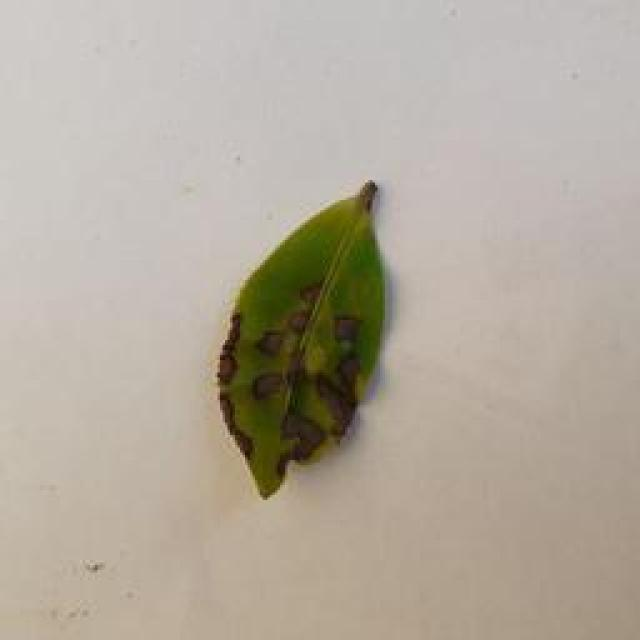Helopeltis: (210, 158, 406, 498)
